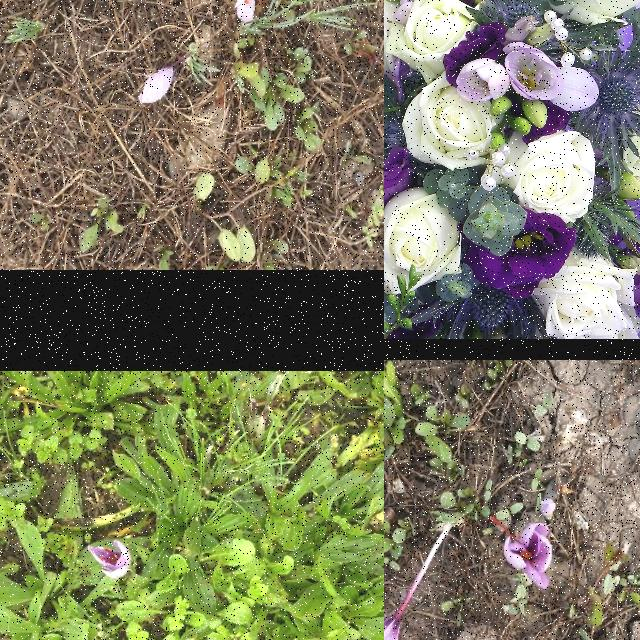flower: (490, 516, 552, 590), (139, 64, 181, 104), (87, 542, 131, 578), (235, 0, 255, 23)
